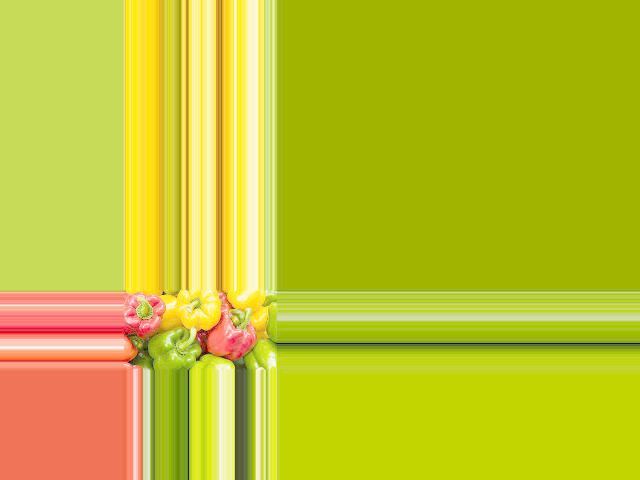bell_pepper: (124, 291, 171, 338)
